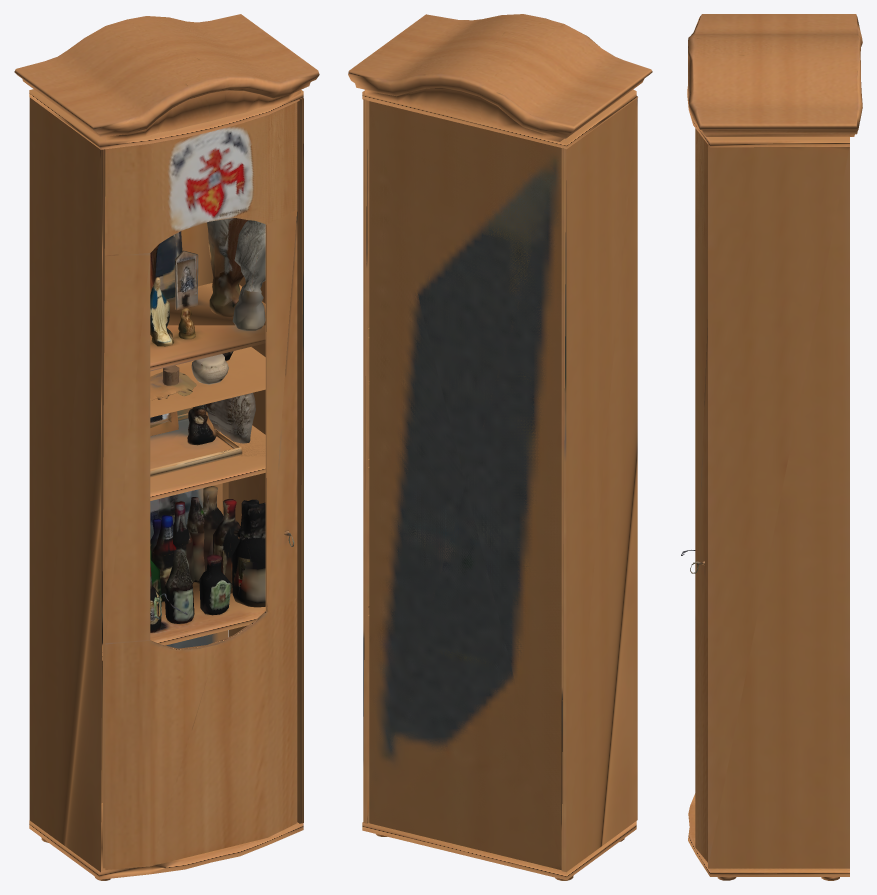
Rendered from Meshy_AI__1020124740_texture.glb.
3 renders of one model, left to right at view 1: azimuth 30°, elevation 25°; view 2: azimuth 150°, elevation 25°; view 3: azimuth 270°, elevation 25°, orthographic.
Size of the model in its own units: 0.2861 by 0.9512 by 0.1992.
1 material, 1 textured.
